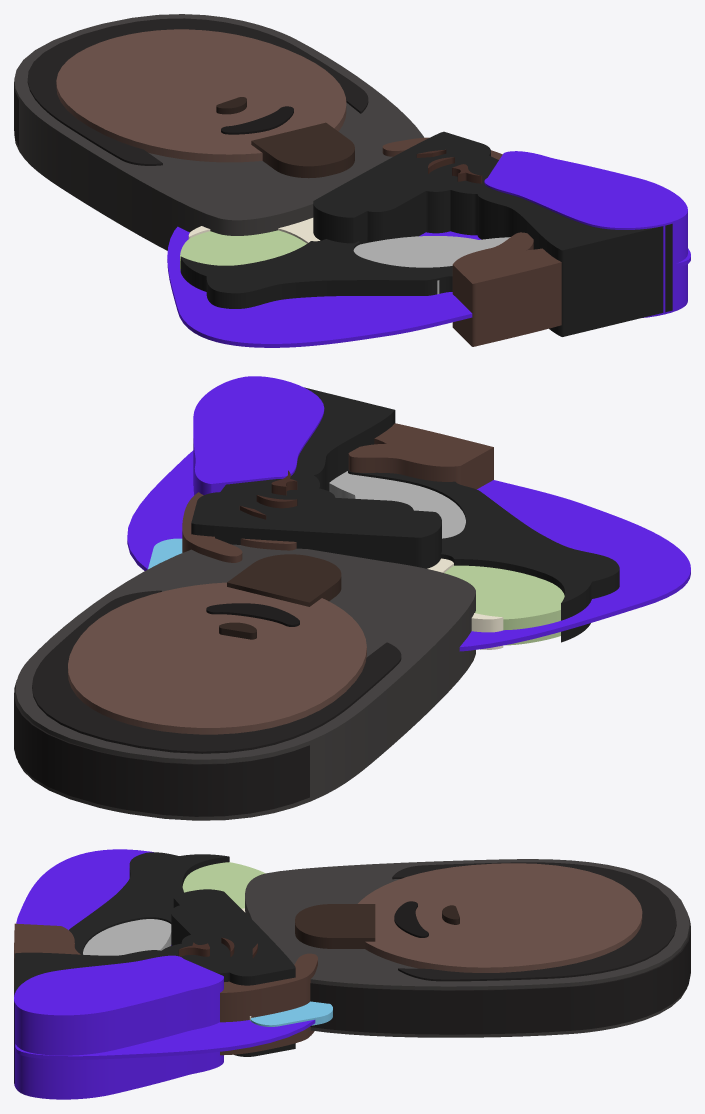
Rendered from emoji_u1f469_1f3ff_200d_1f37c.glb.
3 views of the same model, one above another, from view 1: azimuth 30°, elevation 25°; view 2: azimuth 150°, elevation 25°; view 3: azimuth 270°, elevation 25° (orthographic). The views are drawn at different scales.
Parts seen in each view (by area): view 1: emoji_u1f469_1f3ff_200d_1f37c; view 2: emoji_u1f469_1f3ff_200d_1f37c; view 3: emoji_u1f469_1f3ff_200d_1f37c.
Part boxes in pixels (left/top/right/bottom): emoji_u1f469_1f3ff_200d_1f37c: left=14, top=14, right=690, bottom=347; emoji_u1f469_1f3ff_200d_1f37c: left=14, top=376, right=690, bottom=820; emoji_u1f469_1f3ff_200d_1f37c: left=14, top=849, right=690, bottom=1099.
Size of the model in its own units: 0.0242 by 0.0052 by 0.0335.
